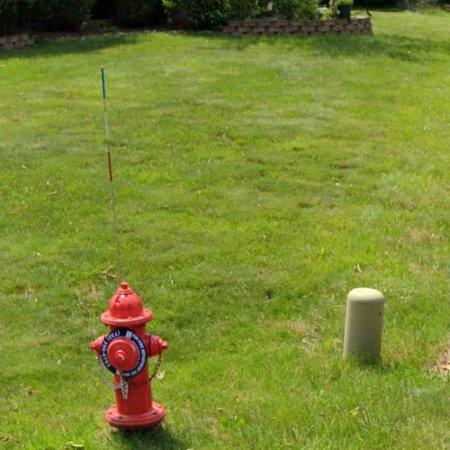a fire hydrant: (90, 283, 168, 431)
